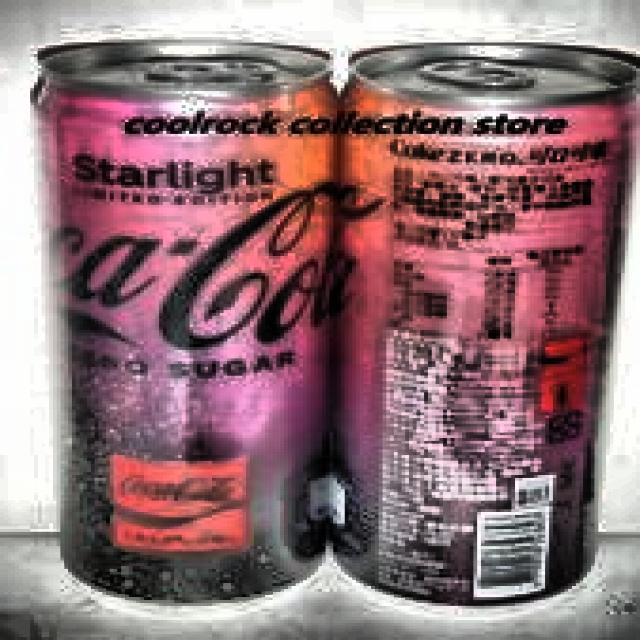Cans: (25, 32, 351, 616), (332, 14, 640, 626)
